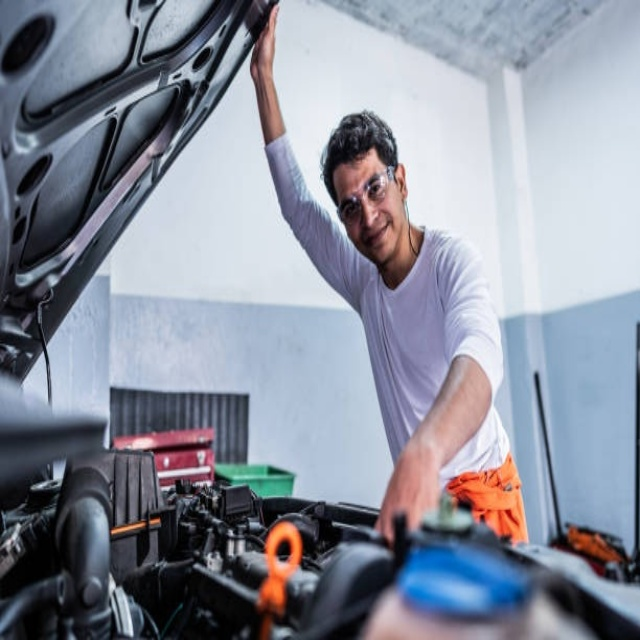Gafas: (337, 166, 393, 225)
Sin_guantes: (373, 440, 441, 543)
Sin_mascara: (364, 224, 389, 246)
